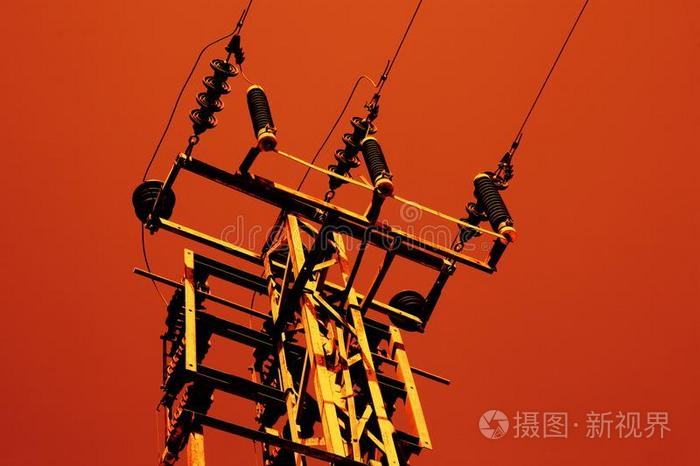insulator: (188, 60, 238, 131), (324, 117, 376, 181), (457, 173, 508, 238)
